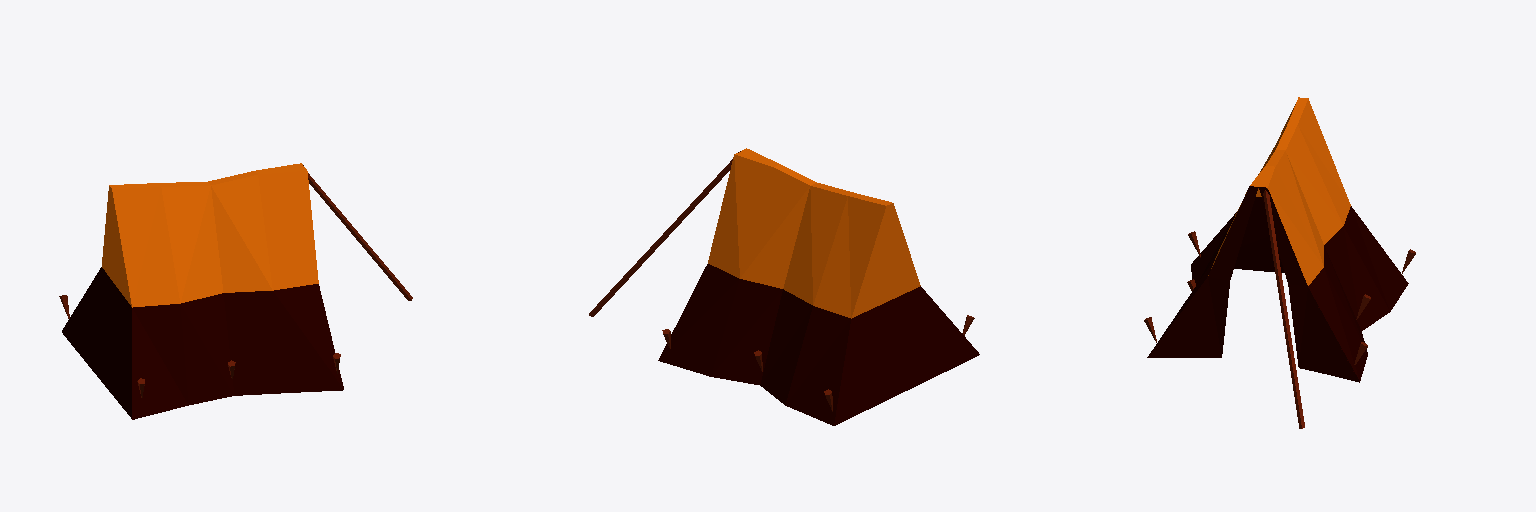
Rendered from tent.obj.
3 views of the same model, side by side, from view 1: azimuth 30°, elevation 25°; view 2: azimuth 150°, elevation 25°; view 3: azimuth 270°, elevation 25° (orthographic).
Visible parts, largest first — view 1: tent_Cube.002, stick_Cylinder; view 2: tent_Cube.002, stick_Cylinder; view 3: tent_Cube.002, stick_Cylinder.
Part boxes in pixels (left/top/right/bottom): tent_Cube.002: left=62, top=163, right=343, bottom=419; stick_Cylinder: left=308, top=173, right=412, bottom=300; tent_Cube.002: left=658, top=148, right=979, bottom=425; stick_Cylinder: left=589, top=159, right=732, bottom=316; tent_Cube.002: left=1147, top=97, right=1408, bottom=382; stick_Cylinder: left=1263, top=190, right=1304, bottom=428.
Bounding box in the file's own units: 6.35 × 3.35 × 4.46.